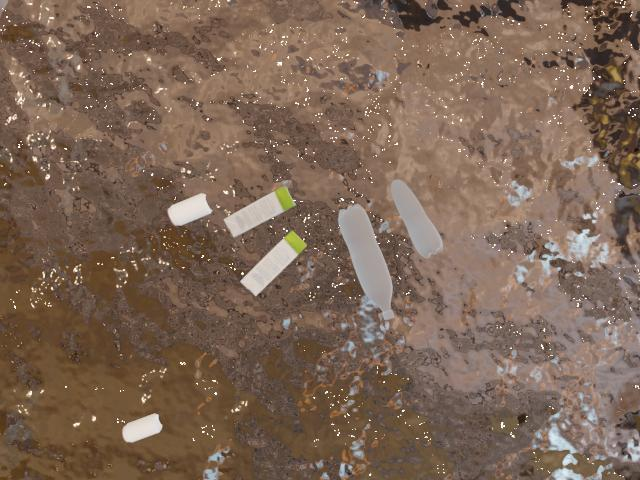Metal: (113, 403, 173, 454), (166, 191, 215, 233)
Plastic: (323, 188, 414, 332), (370, 160, 470, 279)
Trash: (226, 223, 320, 312), (222, 189, 309, 250)
